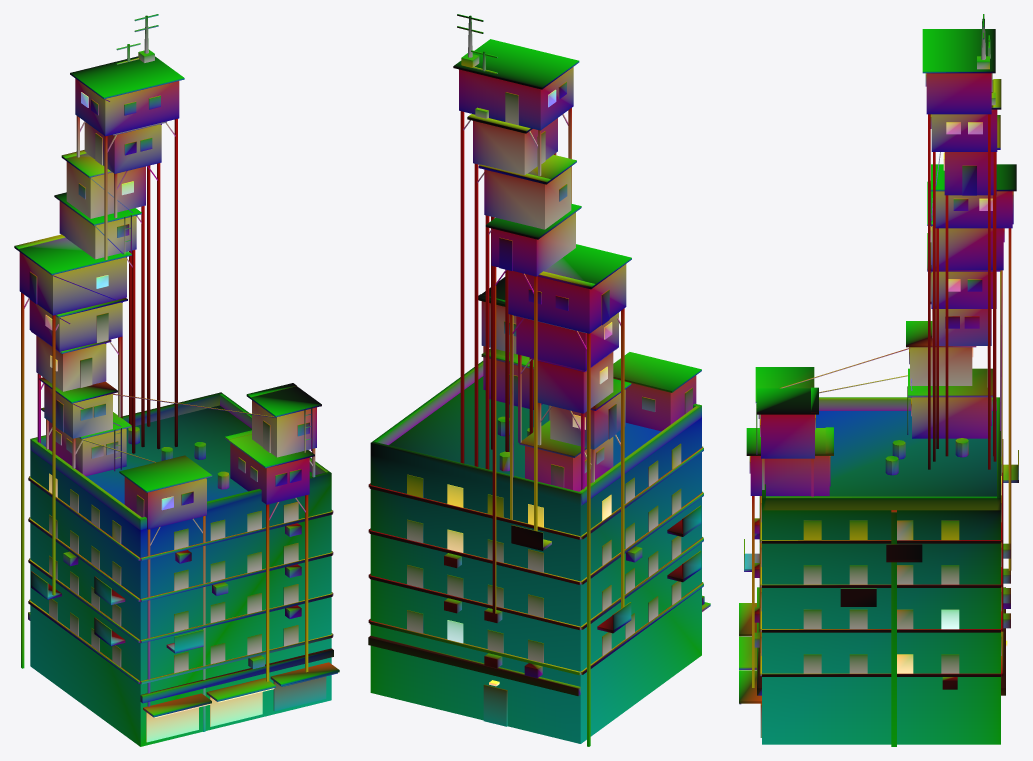
File: Slum_Tower.fbx
3 renders of one model, left to right at view 1: azimuth 30°, elevation 25°; view 2: azimuth 150°, elevation 25°; view 3: azimuth 270°, elevation 25°, orthographic. The views are drawn at different scales.
Parts seen in each view (by area): view 1: Slum_Tower_LOD0; view 2: Slum_Tower_LOD0; view 3: Slum_Tower_LOD0.
Part boxes in pixels (x1,y1,x2,y2): Slum_Tower_LOD0: (14, 14, 339, 746); Slum_Tower_LOD0: (368, 14, 710, 746); Slum_Tower_LOD0: (739, 14, 1018, 746).
Size of what is drawn, in the model's own units: 16.8 by 45.98 by 17.1.
